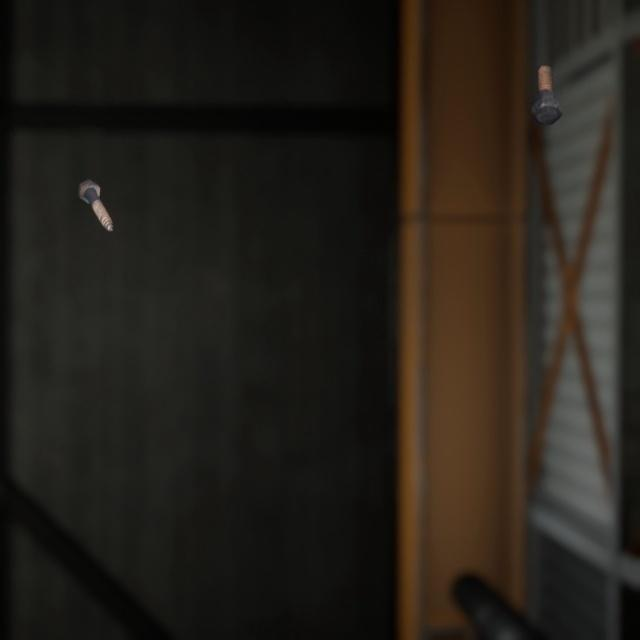bolt: (73, 160, 118, 220), (527, 49, 566, 117)
